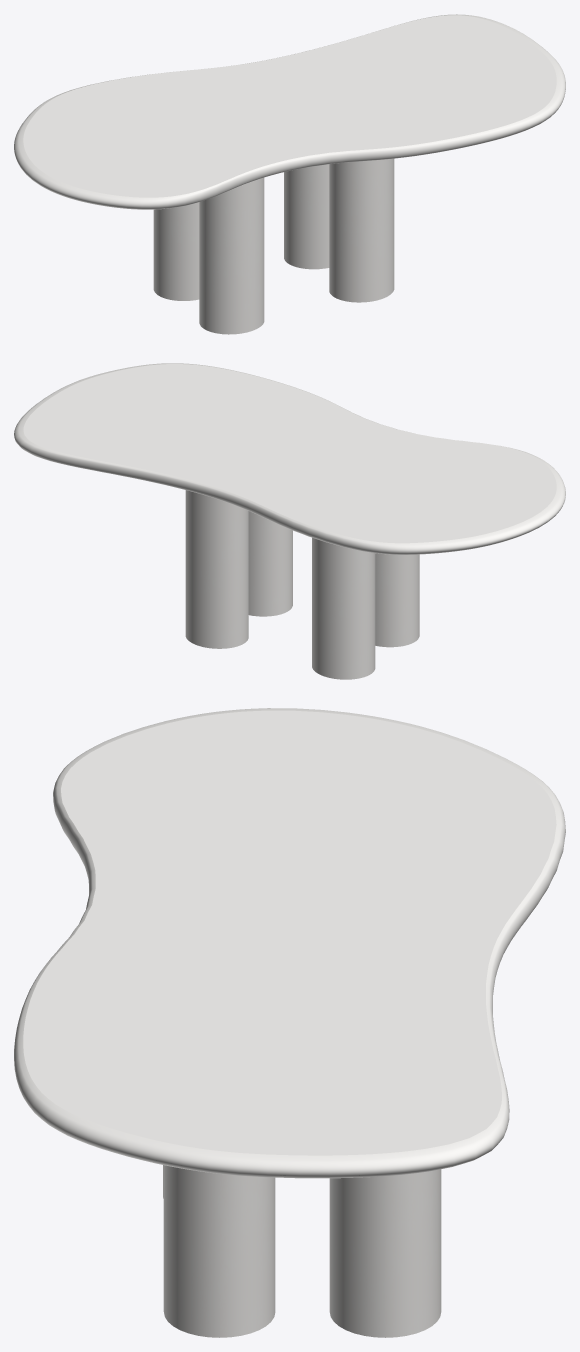
The model's file is purewhite_wave_round_grove.glb.
3 views of the same model, one above another, from view 1: azimuth 30°, elevation 25°; view 2: azimuth 150°, elevation 25°; view 3: azimuth 270°, elevation 25° (orthographic). The views are drawn at different scales.
Parts seen in each view (by area): view 1: round_wave, grove; view 2: round_wave, grove; view 3: round_wave, grove.
Part boxes in pixels (bbox=[...]): round_wave: bbox=[14, 14, 565, 209]; grove: bbox=[153, 158, 394, 334]; round_wave: bbox=[14, 363, 565, 554]; grove: bbox=[185, 490, 419, 679]; round_wave: bbox=[14, 708, 565, 1178]; grove: bbox=[163, 1165, 441, 1337].
Bounding box in the file's own units: 7.5 × 2.51 × 3.8.
1 material, 1 textured.
